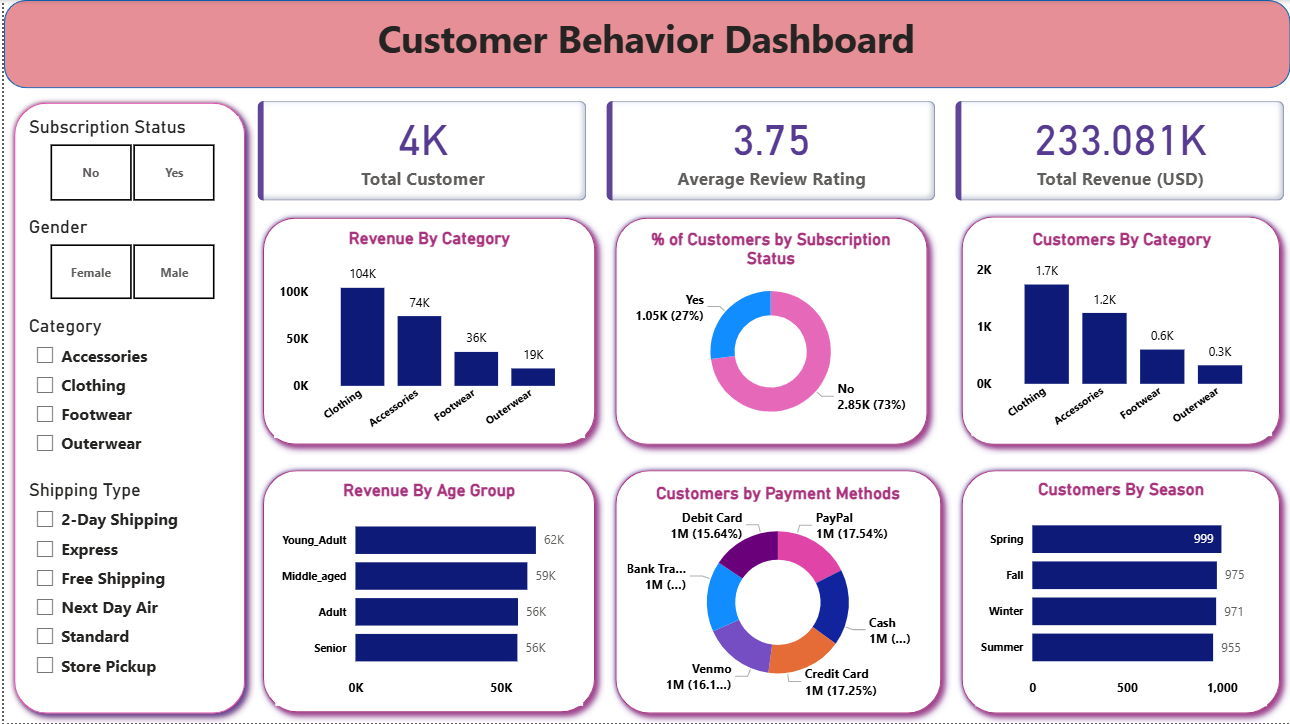

The page's visual inventory and layout, read from the dashboard file:
{"tool":"powerbi","page":{"name":"Page 1","canvas":[1280,720],"ordinal":0},"visuals":[{"type":"cardVisual","fields":{"Data":["public customer.Total Customer","public customer.Average Review Rating","public customer.Total Revenue"]},"box":[247.5,95.8,1032.5,109.5],"z":0},{"type":"shape","box":[0,0,1280.3,87.8],"z":1000},{"type":"textbox","box":[282.7,6.9,713.6,74.1],"z":2000},{"type":"shape","box":[0,92.1,250,628.2],"z":3000,"group":"g6"},{"type":"slicer","title":"Subscription Status","fields":{"Values":["public customer.subscription_status"]},"box":[19.9,115.7,214,90.8],"z":4000,"group":"g6"},{"type":"slicer","title":"Gender","fields":{"Values":["public customer.gender"]},"box":[19.9,215.3,214,89.6],"z":5000,"group":"g6"},{"type":"slicer","title":"Category","fields":{"Values":["public customer.category"]},"box":[19.9,313.5,215.2,153],"z":6000,"group":"g6"},{"type":"slicer","title":"Shipping Type","fields":{"Values":["public customer.shipping_type"]},"box":[19.9,476.4,214,209],"z":7000,"group":"g6"},{"type":"shape","box":[247.5,457.8,350.8,261.2],"z":8000,"group":"g5"},{"type":"shape","box":[247.5,206.5,351,246.1],"z":9000,"group":"g1"},{"type":"shape","box":[598.3,206.5,330.9,246.3],"z":10000,"group":"g2"},{"type":"shape","box":[598.3,457.8,344.6,262.5],"z":10000,"group":"g7"},{"type":"shape","box":[942.9,205.3,337.1,247.5],"z":11000,"group":"g3"},{"type":"shape","box":[942.9,457.8,337.1,262.5],"z":12000,"group":"g8"},{"type":"clusteredColumnChart","title":"Revenue By Category","fields":{"Category":["public customer.category"],"Y":["Sum(public customer.purchase_amount)"]},"box":[269,226.7,309.3,209.8],"z":13000,"group":"g1"},{"type":"donutChart","title":"% of Customers by Subscription Status","fields":{"Category":["public customer.subscription_status"],"Y":["CountNonNull(public customer.customer_id)"]},"box":[620,227,287.4,206.1],"z":14000,"group":"g2"},{"type":"donutChart","title":"Customers by Payment Methods","fields":{"Category":["public customer.payment_method"],"Y":["Sum(public customer.customer_id)"]},"box":[620.9,479.7,299.2,219.6],"z":14000,"group":"g7"},{"type":"clusteredColumnChart","title":"Customers By Category","fields":{"Y":["CountNonNull(public customer.customer_id)"],"Category":["public customer.category"]},"box":[963,227.8,299.5,206.5],"z":15000,"group":"g3"},{"type":"barChart","title":"Revenue By Age Group","fields":{"Y":["Sum(public customer.purchase_amount)"],"Category":["public customer.age_group"]},"box":[269.8,477.7,306.3,225.2],"z":16000,"group":"g5"},{"type":"barChart","title":"Customers By Season","fields":{"Y":["CountNonNull(public customer.customer_id)"],"Category":["public customer.season"]},"box":[966.5,476.7,290.5,226.4],"z":17000,"group":"g8"},{"type":"group","id":"g1","title":"Group 1","box":[247.5,206.5,350.8,245.1],"z":17001},{"type":"group","id":"g2","title":"Group 2","box":[598.3,206.5,330.9,246.3],"z":17002},{"type":"group","id":"g3","title":"Group 3","box":[942.9,205.3,337.1,247.5],"z":17003},{"type":"group","id":"g4","title":"Group 4","box":[942.9,457.8,337.1,262.5],"z":17004},{"type":"group","id":"g5","title":"Group 5","box":[247.5,457.8,350.8,261.2],"z":17005},{"type":"group","id":"g6","title":"Group 6","box":[0,92.1,250,628.2],"z":17006},{"type":"group","id":"g7","title":"Group 2","box":[598.3,457.8,344.6,262.5],"z":17007},{"type":"group","id":"g8","title":"Group 7","box":[942.9,457.8,337.1,262.5],"z":17007,"group":"g4"}]}

Visuals, with their boxes in screenshot pixels (x1, y1, x2, y2), scaled from the page's 1280x720 canvas onto the 1290x724 screenshot:
cardVisual - public customer.Total Customer x public customer.Average Review Rating: crop(249, 96, 1289, 206)
shape: crop(0, 0, 1289, 88)
textbox: crop(285, 7, 1004, 81)
shape: crop(0, 93, 252, 723)
"Subscription Status" slicer: crop(20, 116, 236, 208)
"Gender" slicer: crop(20, 216, 236, 307)
"Category" slicer: crop(20, 315, 237, 469)
"Shipping Type" slicer: crop(20, 479, 236, 689)
shape: crop(249, 460, 603, 723)
shape: crop(249, 208, 603, 455)
shape: crop(603, 208, 936, 455)
shape: crop(603, 460, 950, 723)
shape: crop(950, 206, 1289, 455)
shape: crop(950, 460, 1289, 723)
"Revenue By Category" clusteredColumnChart: crop(271, 228, 583, 439)
"% of Customers by Subscription Status" donutChart: crop(625, 228, 914, 436)
"Customers by Payment Methods" donutChart: crop(626, 482, 927, 703)
"Customers By Category" clusteredColumnChart: crop(971, 229, 1272, 437)
"Revenue By Age Group" barChart: crop(272, 480, 581, 707)
"Customers By Season" barChart: crop(974, 479, 1267, 707)
"Group 1" group: crop(249, 208, 603, 454)
"Group 2" group: crop(603, 208, 936, 455)
"Group 3" group: crop(950, 206, 1289, 455)
"Group 4" group: crop(950, 460, 1289, 723)
"Group 5" group: crop(249, 460, 603, 723)
"Group 6" group: crop(0, 93, 252, 723)
"Group 2" group: crop(603, 460, 950, 723)
"Group 7" group: crop(950, 460, 1289, 723)
